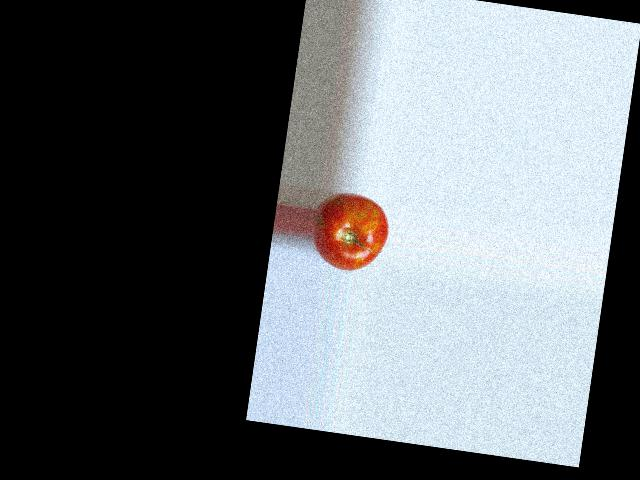tomato: (308, 188, 392, 275)
